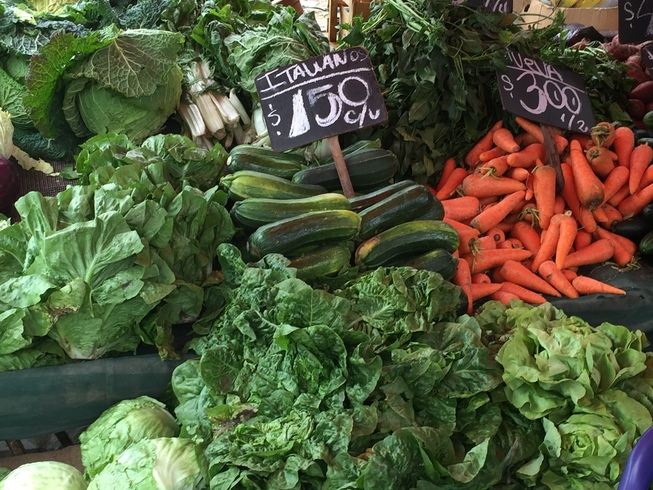precio: (246, 45, 401, 143), (490, 45, 613, 133)
